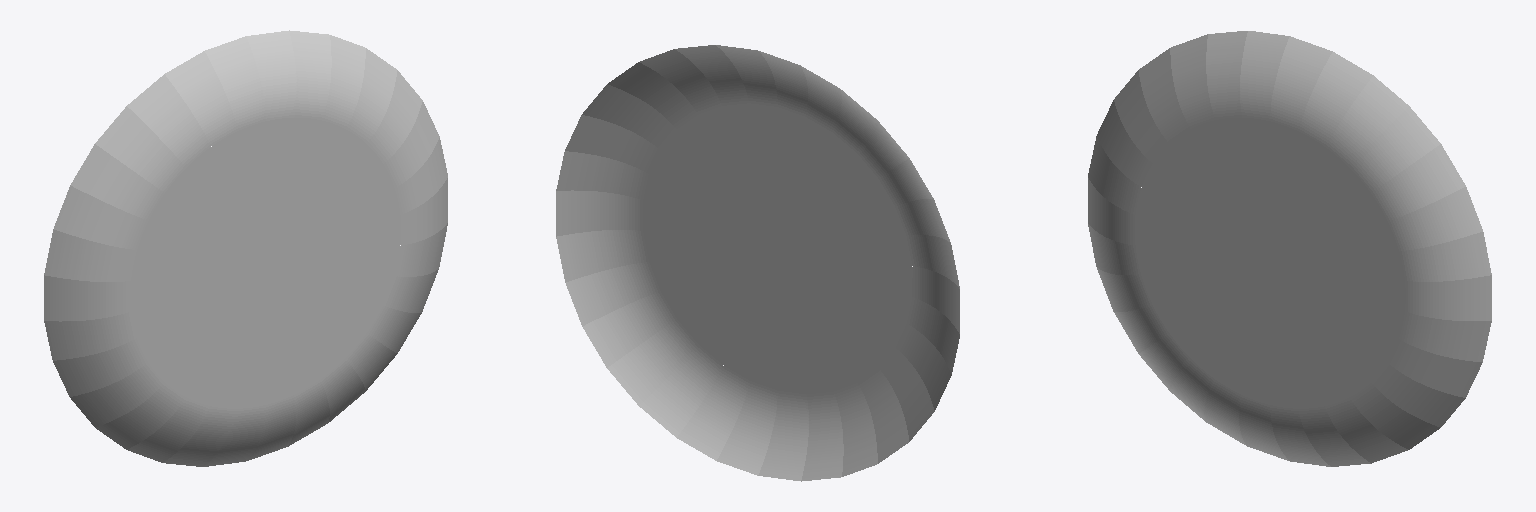
The model's file is jogador.obj.
3 views of the same model, side by side, from view 1: azimuth 30°, elevation 25°; view 2: azimuth 150°, elevation 25°; view 3: azimuth 330°, elevation 25° (orthographic).
Visible parts, largest first — view 1: Default Obj_000001; view 2: Default Obj_000001; view 3: Default Obj_000001.
Part boxes in pixels (left/top/right/bottom): Default Obj_000001: left=44, top=30, right=447, bottom=466; Default Obj_000001: left=556, top=45, right=959, bottom=481; Default Obj_000001: left=1088, top=31, right=1491, bottom=466.
Size of the model in its own units: 11.93 by 12 by 1.